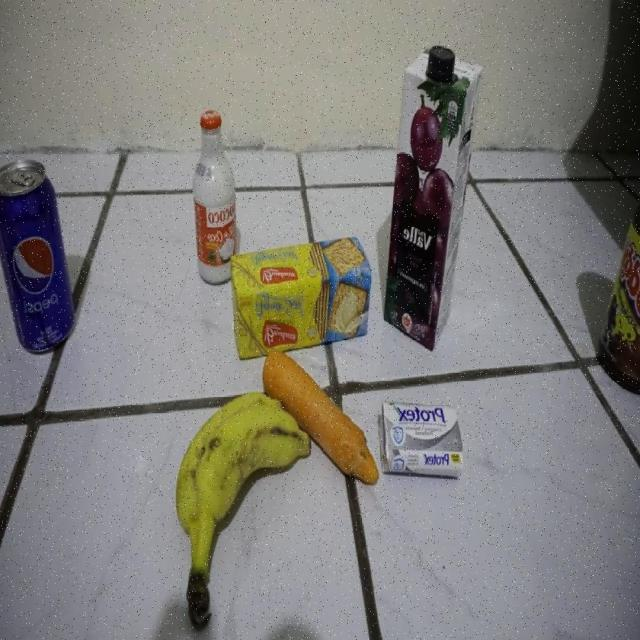Banana: (177, 392, 310, 620)
Carrot: (264, 352, 379, 485)
ChocolatePowder: (597, 168, 640, 402)
CoconutMilk: (193, 110, 236, 284)
Cracker: (230, 236, 370, 358)
Soap: (379, 402, 462, 478)
SodaCan: (0, 160, 78, 356)
